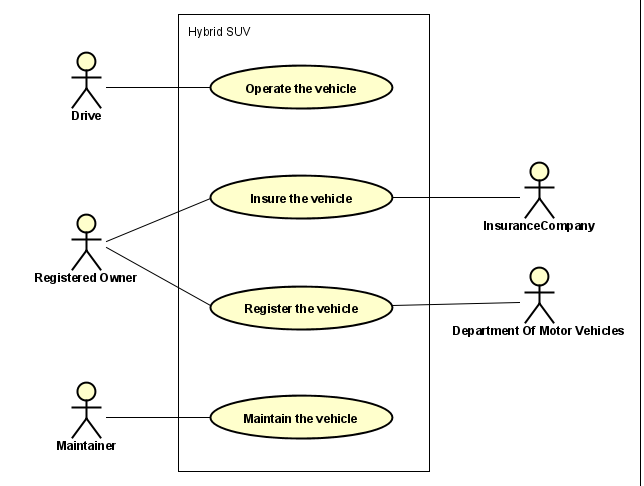actor: (519, 159, 560, 223), (65, 379, 105, 441), (65, 49, 105, 110), (65, 211, 104, 273), (524, 265, 557, 325)
association: (105, 246, 211, 306), (105, 197, 209, 243), (392, 191, 520, 204), (392, 298, 523, 309), (103, 82, 212, 95), (104, 412, 210, 424)
text: (445, 324, 628, 339), (233, 409, 361, 428), (473, 218, 601, 236), (243, 78, 357, 98), (240, 300, 359, 317), (29, 272, 139, 290), (243, 191, 357, 208), (51, 436, 121, 456), (185, 22, 252, 40), (66, 107, 107, 124)
use_case: (208, 392, 394, 441), (209, 171, 393, 220), (208, 284, 395, 331), (211, 65, 394, 110)
